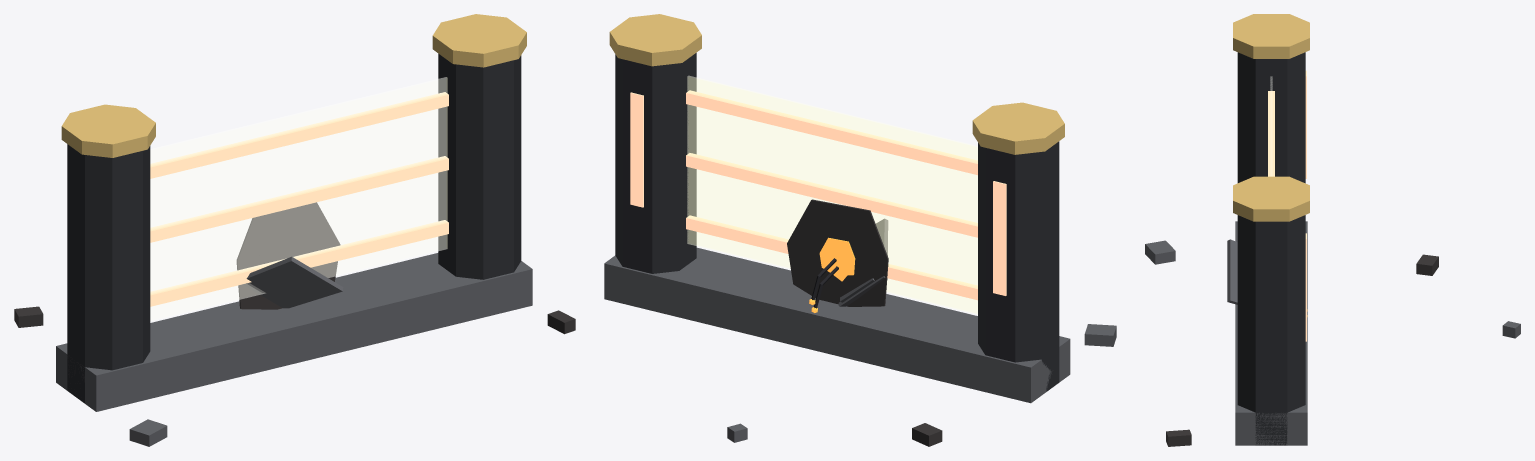
Rendered from Aegis_PulseWall.fbx.
3 views of the same model, side by side, from view 1: azimuth 30°, elevation 25°; view 2: azimuth 150°, elevation 25°; view 3: azimuth 270°, elevation 25° (orthographic). The views are drawn at different scales.
Parts seen in each view (by area): view 1: PW_Field, PW_Footing, PW_Post-1, PW_Post1, PW_Beam1, PW_Beam2, PW_PostCap1, PW_PostCap-1, PW_Beam0, Aegis_PulseWall_DmgScorch1, Aegis_PulseWall_DmgPanel1, Aegis_PulseWall_DmgScorch0 (+2 smaller); view 2: PW_Field, PW_Footing, PW_Post-1, PW_Post1, Aegis_PulseWall_DmgScorch1, PW_Beam2, PW_Beam1, PW_PostCap-1, PW_PostCap1, PW_Beam0, Aegis_PulseWall_DmgScorch0, PW_PostLight-1 (+5 smaller); view 3: PW_Post1, PW_Post-1, PW_PostCap1, PW_PostCap-1, PW_Footing, Aegis_PulseWall_DmgPanel1, PW_Beam2, Aegis_PulseWall_DmgRubble1, Aegis_PulseWall_DmgRubble2, Aegis_PulseWall_DmgRubble0.
Part boxes in pixels (x1,y1,x2,y2): PW_Field: (150, 77, 447, 321); PW_Footing: (56, 253, 532, 411); PW_Post-1: (67, 144, 150, 403); PW_Post1: (438, 53, 521, 279); PW_Beam1: (150, 156, 448, 242); PW_Beam2: (150, 92, 448, 178); PW_PostCap1: (432, 14, 526, 67); PW_PostCap-1: (61, 104, 155, 157); PW_Beam0: (150, 220, 448, 306); Aegis_PulseWall_DmgScorch1: (236, 202, 340, 309); Aegis_PulseWall_DmgPanel1: (243, 256, 343, 308); Aegis_PulseWall_DmgScorch0: (256, 223, 322, 271); PW_Field: (687, 76, 977, 314); PW_Footing: (604, 247, 1070, 403); PW_Post-1: (978, 141, 1059, 391); PW_Post1: (615, 53, 696, 273); Aegis_PulseWall_DmgScorch1: (787, 199, 888, 306); PW_Beam2: (686, 90, 977, 175); PW_Beam1: (686, 153, 977, 237); PW_PostCap-1: (972, 102, 1064, 154); PW_PostCap1: (609, 14, 701, 66); PW_Beam0: (686, 215, 977, 300); Aegis_PulseWall_DmgScorch0: (806, 228, 870, 306); PW_PostLight-1: (993, 181, 1006, 295); PW_Post1: (1237, 215, 1305, 445); PW_Post-1: (1237, 52, 1305, 183); PW_PostCap1: (1233, 176, 1309, 221); PW_PostCap-1: (1233, 14, 1309, 58); PW_Footing: (1235, 221, 1307, 445); Aegis_PulseWall_DmgPanel1: (1227, 239, 1237, 304); PW_Beam2: (1268, 91, 1274, 176); Aegis_PulseWall_DmgRubble1: (1145, 240, 1175, 264); Aegis_PulseWall_DmgRubble2: (1166, 429, 1191, 446); Aegis_PulseWall_DmgRubble0: (1416, 254, 1438, 275).
Size of the model in its own units: 2.05 by 1.16 by 1.66.
